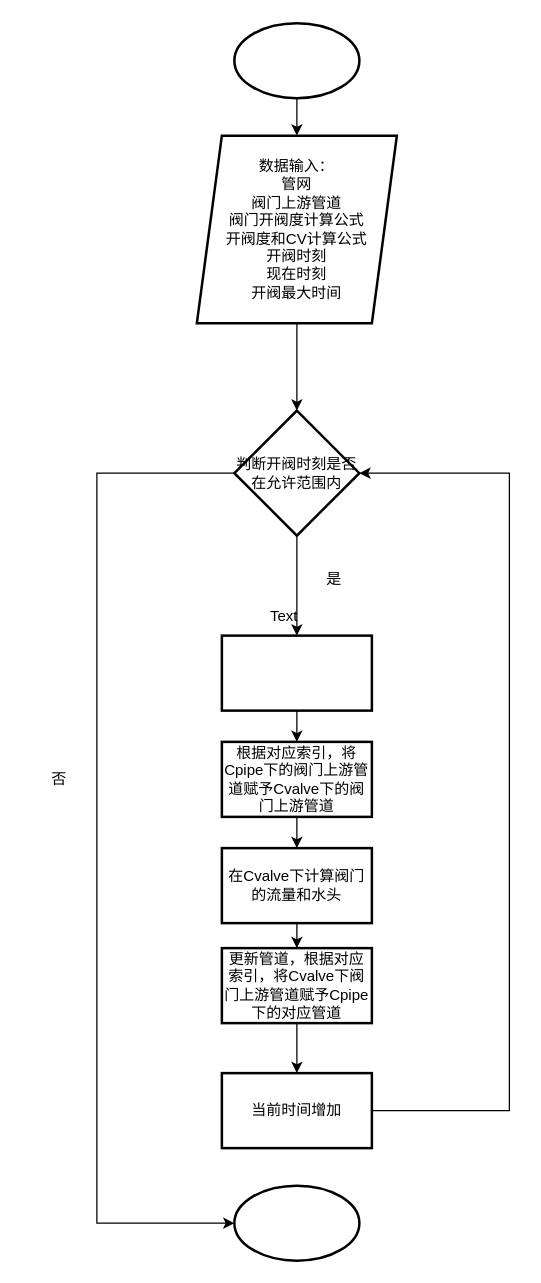
Some shapes in this 541 by 1283 pixel diagram are drawn without their labels. The shapes that lost their labels are listed below. From the top down, each one's box as (x1, y1, x2, y2) in pixels, then its label:
(232, 21, 360, 99): star
(220, 634, 372, 711): 遍历每个阀门，根据阀门上游管道索引编号查找对应的管道
(232, 1184, 360, 1261): end
